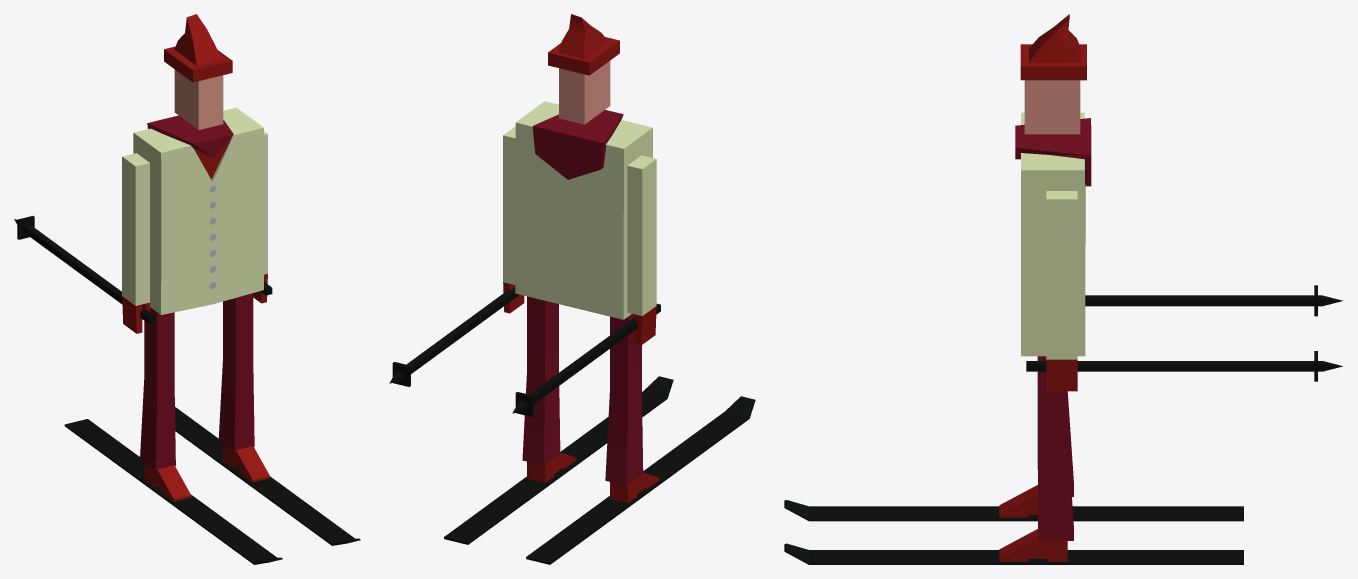
File: skier2.fbx
3 views of the same model, side by side, from view 1: azimuth 30°, elevation 25°; view 2: azimuth 150°, elevation 25°; view 3: azimuth 270°, elevation 25° (orthographic). The views are drawn at different scales.
Visible parts, largest first — view 1: skier_2; view 2: skier_2; view 3: skier_2.
Part boxes in pixels (box(x1,y1,x2,y2)): skier_2: box(14, 14, 360, 564); skier_2: box(389, 14, 755, 564); skier_2: box(784, 14, 1342, 564).
Size of the model in its own units: 0.655 by 2.14 by 2.08.
